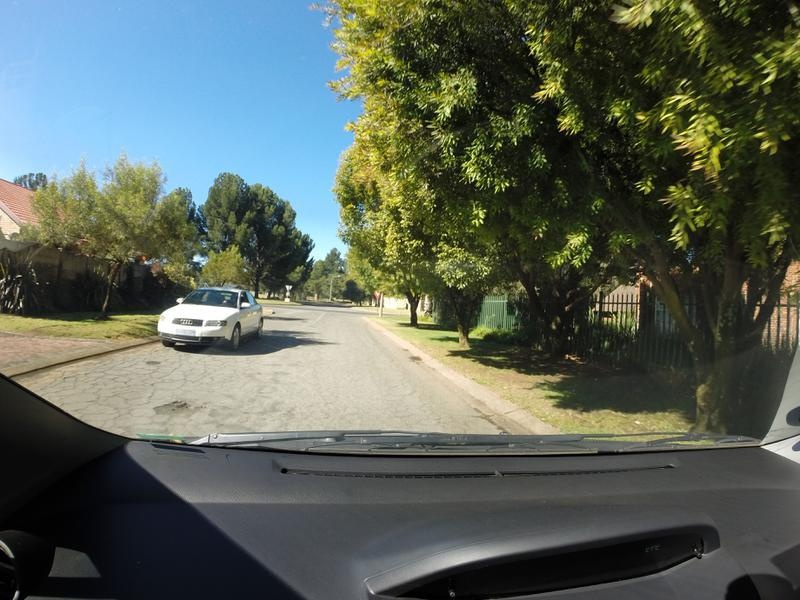pothole: (149, 399, 202, 418), (138, 360, 160, 368)
